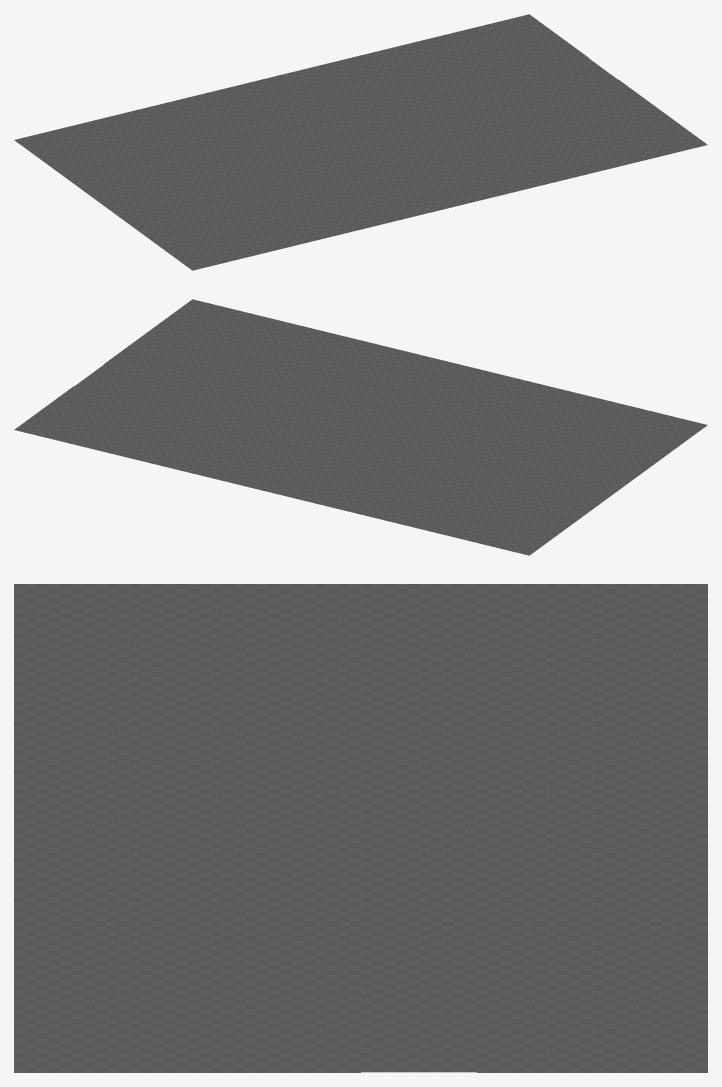
File: LightIntensity.gltf
3 renders of one model, top to bottom at view 1: azimuth 30°, elevation 25°; view 2: azimuth 150°, elevation 25°; view 3: azimuth 270°, elevation 25°, orthographic. The views are drawn at different scales.
Parts seen in each view (by area): view 1: Plane10_StaticMeshComponent0, Plane51_StaticMeshComponent0, Plane3_StaticMeshComponent0, Plane7_StaticMeshComponent0, Plane13_StaticMeshComponent0, Plane16_StaticMeshComponent0, Plane24_StaticMeshComponent0, Plane37_StaticMeshComponent0, Plane45_StaticMeshComponent0, Plane48_StaticMeshComponent0, Plane54_StaticMeshComponent0, Plane58_StaticMeshComponent0 (+48 smaller); view 2: Plane1_StaticMeshComponent0, Plane60_StaticMeshComponent0, Plane4_StaticMeshComponent0, Plane8_StaticMeshComponent0, Plane15_StaticMeshComponent0, Plane18_StaticMeshComponent0, Plane27_StaticMeshComponent0, Plane34_StaticMeshComponent0, Plane43_StaticMeshComponent0, Plane46_StaticMeshComponent0, Plane53_StaticMeshComponent0, Plane57_StaticMeshComponent0 (+48 smaller); view 3: Plane14_StaticMeshComponent0, Plane15_StaticMeshComponent0, Plane17_StaticMeshComponent0, Plane44_StaticMeshComponent0, Plane45_StaticMeshComponent0, Plane47_StaticMeshComponent0, Plane16_StaticMeshComponent0, Plane46_StaticMeshComponent0, Plane4_StaticMeshComponent0, Plane5_StaticMeshComponent0, Plane6_StaticMeshComponent0, Plane7_StaticMeshComponent0 (+48 smaller).
Part boxes in pixels (left/top/right/bottom): Plane10_StaticMeshComponent0: left=478, top=14, right=558, bottom=48; Plane51_StaticMeshComponent0: left=163, top=236, right=243, bottom=270; Plane3_StaticMeshComponent0: left=117, top=102, right=197, bottom=136; Plane7_StaticMeshComponent0: left=323, top=52, right=404, bottom=86; Plane13_StaticMeshComponent0: left=147, top=124, right=227, bottom=158; Plane16_StaticMeshComponent0: left=302, top=86, right=382, bottom=120; Plane24_StaticMeshComponent0: left=228, top=133, right=308, bottom=167; Plane37_StaticMeshComponent0: left=413, top=117, right=493, bottom=151; Plane45_StaticMeshComponent0: left=339, top=164, right=419, bottom=198; Plane48_StaticMeshComponent0: left=494, top=126, right=574, bottom=160; Plane54_StaticMeshComponent0: left=317, top=198, right=398, bottom=232; Plane58_StaticMeshComponent0: left=524, top=148, right=604, bottom=182; Plane1_StaticMeshComponent0: left=478, top=521, right=558, bottom=555; Plane60_StaticMeshComponent0: left=163, top=299, right=243, bottom=333; Plane4_StaticMeshComponent0: left=323, top=483, right=404, bottom=517; Plane8_StaticMeshComponent0: left=117, top=433, right=197, bottom=467; Plane15_StaticMeshComponent0: left=302, top=449, right=382, bottom=483; Plane18_StaticMeshComponent0: left=147, top=411, right=227, bottom=445; Plane27_StaticMeshComponent0: left=228, top=402, right=308, bottom=436; Plane34_StaticMeshComponent0: left=413, top=418, right=493, bottom=452; Plane43_StaticMeshComponent0: left=494, top=409, right=574, bottom=443; Plane46_StaticMeshComponent0: left=339, top=371, right=419, bottom=405; Plane53_StaticMeshComponent0: left=524, top=387, right=604, bottom=421; Plane57_StaticMeshComponent0: left=317, top=337, right=398, bottom=371; Plane14_StaticMeshComponent0: left=476, top=730, right=592, bottom=779; Plane15_StaticMeshComponent0: left=476, top=779, right=592, bottom=828; Plane17_StaticMeshComponent0: left=476, top=877, right=592, bottom=926; Plane44_StaticMeshComponent0: left=129, top=730, right=245, bottom=779; Plane45_StaticMeshComponent0: left=129, top=779, right=245, bottom=828; Plane47_StaticMeshComponent0: left=129, top=877, right=245, bottom=926; Plane16_StaticMeshComponent0: left=476, top=828, right=592, bottom=877; Plane46_StaticMeshComponent0: left=129, top=828, right=245, bottom=877; Plane4_StaticMeshComponent0: left=592, top=730, right=707, bottom=779; Plane5_StaticMeshComponent0: left=592, top=779, right=707, bottom=828; Plane6_StaticMeshComponent0: left=592, top=828, right=707, bottom=877; Plane7_StaticMeshComponent0: left=592, top=877, right=707, bottom=926.
Size of the model in its own units: 10 by 1.61e-16 by 6.
Materials: 1 (1 with a texture image).
